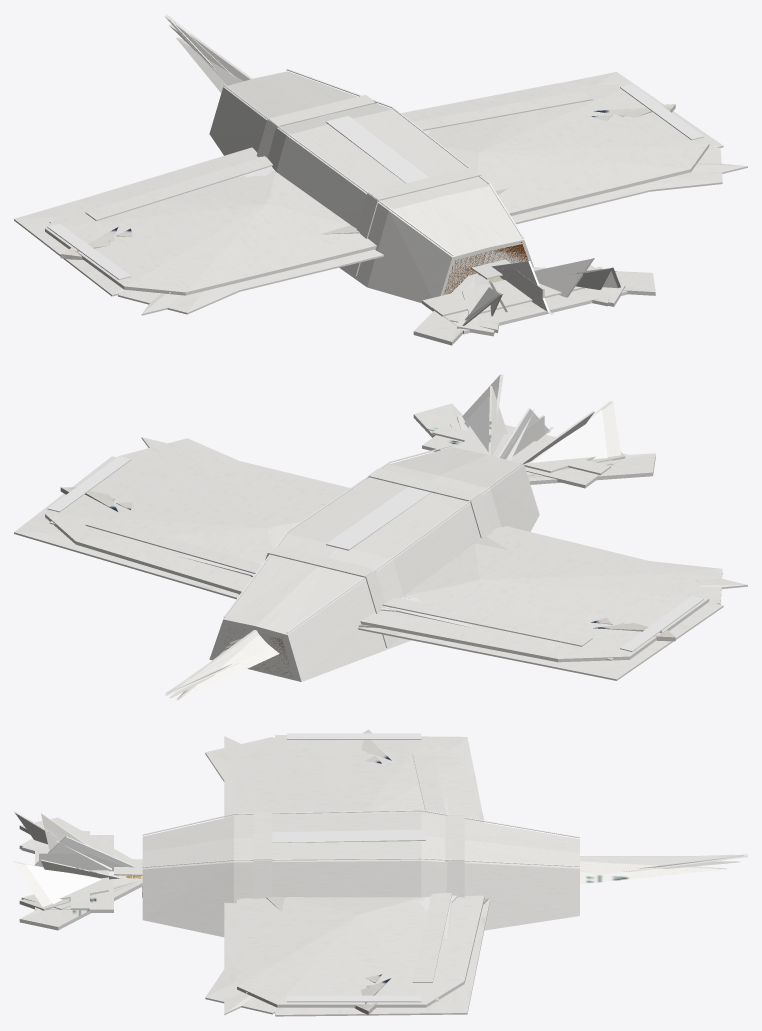
The model's file is aircraft.fbx.
The picture shows the model from 3 angles, top to bottom: view 1: azimuth 30°, elevation 25°; view 2: azimuth 150°, elevation 25°; view 3: azimuth 270°, elevation 25°; orthographic projection. The views are drawn at different scales.
Visible parts, largest first — view 1: wings_4, body_heavy_mk2, tail_5, wings_3, tail_3, wings_1, wings_2, tail_0, wings_0, tail_4, body_heavy, nose_0 (+2 smaller); view 2: wings_4, body_heavy_mk2, wings_2, tail_3, tail_5, tail_1, wings_1, tail_0, tail_4, wings_3, wings_0, nose_0 (+2 smaller); view 3: wings_4, body_heavy_mk2, wings_2, tail_5, tail_3, wings_1, wings_3, tail_1, tail_0, nose_0, tail_4, nose_2 (+3 smaller).
Part boxes in pixels (bbox=[...]): wings_4: bbox=[45, 83, 709, 295]; body_heavy_mk2: bbox=[209, 69, 533, 303]; tail_5: bbox=[422, 264, 627, 334]; wings_3: bbox=[141, 163, 747, 315]; tail_3: bbox=[413, 267, 655, 345]; wings_1: bbox=[118, 131, 722, 314]; wings_2: bbox=[14, 72, 723, 296]; tail_0: bbox=[457, 259, 625, 336]; wings_0: bbox=[60, 104, 675, 259]; tail_4: bbox=[488, 258, 594, 313]; body_heavy: bbox=[444, 242, 528, 294]; nose_0: bbox=[165, 14, 252, 80]; wings_4: bbox=[45, 449, 709, 662]; body_heavy_mk2: bbox=[209, 445, 539, 681]; wings_2: bbox=[14, 456, 723, 680]; tail_3: bbox=[413, 403, 655, 484]; tail_5: bbox=[422, 415, 627, 488]; tail_1: bbox=[450, 384, 613, 478]; wings_1: bbox=[118, 438, 722, 607]; tail_0: bbox=[457, 374, 625, 476]; tail_4: bbox=[488, 386, 594, 464]; wings_3: bbox=[141, 437, 747, 588]; wings_0: bbox=[60, 487, 675, 641]; nose_0: bbox=[165, 630, 258, 695]; wings_4: bbox=[237, 733, 484, 1007]; body_heavy_mk2: bbox=[109, 810, 579, 937]; wings_2: bbox=[275, 735, 489, 1016]; tail_5: bbox=[35, 831, 124, 912]; tail_3: bbox=[19, 817, 142, 930]; wings_1: bbox=[205, 737, 453, 1014]; wings_3: bbox=[224, 736, 252, 1015]; tail_1: bbox=[21, 818, 134, 909]; tail_0: bbox=[14, 811, 142, 910]; nose_0: bbox=[580, 854, 747, 872]; tail_4: bbox=[41, 813, 120, 879]; nose_2: bbox=[580, 866, 726, 884].
Bounding box in the file's own units: 694 × 82.5 × 764.
Materials: 4 (4 with a texture image).
